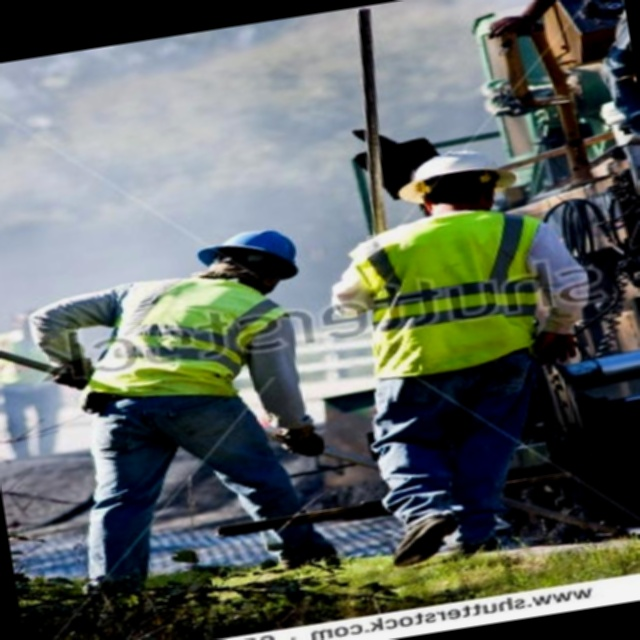Con_Chaleco: (337, 203, 572, 394), (70, 267, 309, 414)
